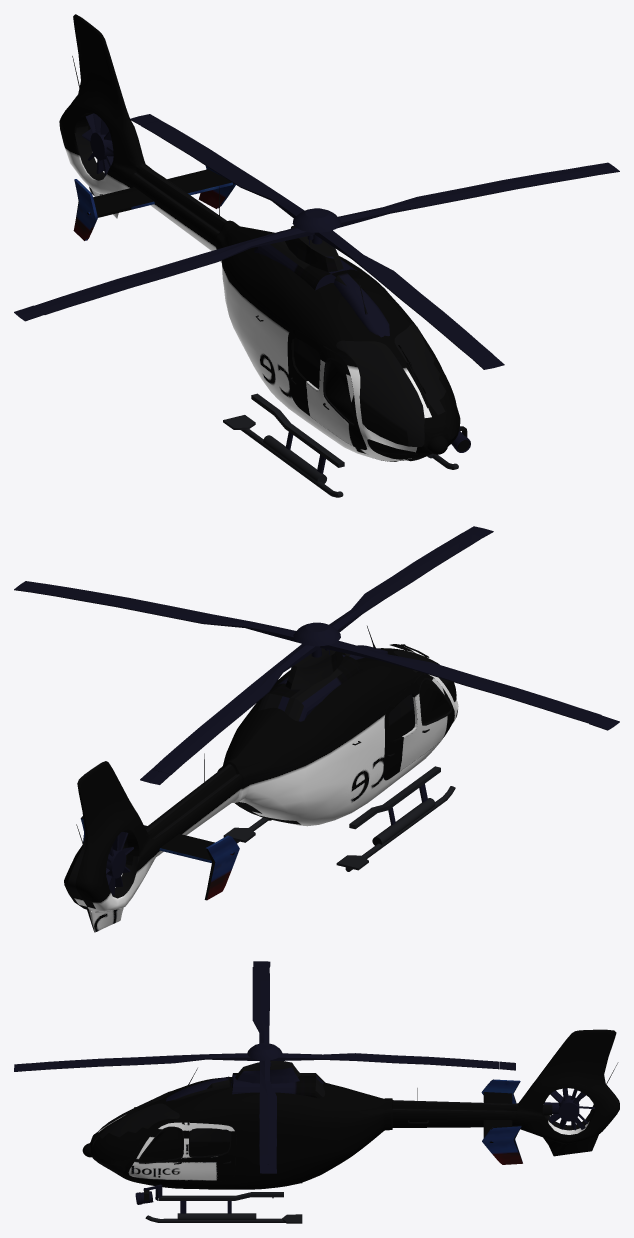
File: Helicopter1.FBX
The picture shows the model from 3 angles, top to bottom: view 1: azimuth 30°, elevation 25°; view 2: azimuth 150°, elevation 25°; view 3: azimuth 270°, elevation 25°; orthographic projection. The views are drawn at different scales.
Visible parts, largest first — view 1: body, rotor, tail; view 2: body, rotor, tail; view 3: body, rotor, tail.
Part boxes in pixels (x1,y1,x2,y2): body: (59, 14, 470, 497); rotor: (14, 114, 619, 369); tail: (82, 113, 113, 176); body: (64, 622, 458, 932); rotor: (14, 526, 619, 784); tail: (106, 832, 133, 895); body: (82, 1029, 619, 1223); rotor: (14, 961, 515, 1173); tail: (544, 1088, 594, 1130).
Bounding box in the file's own units: 81.4 × 31.03 × 98.55.
